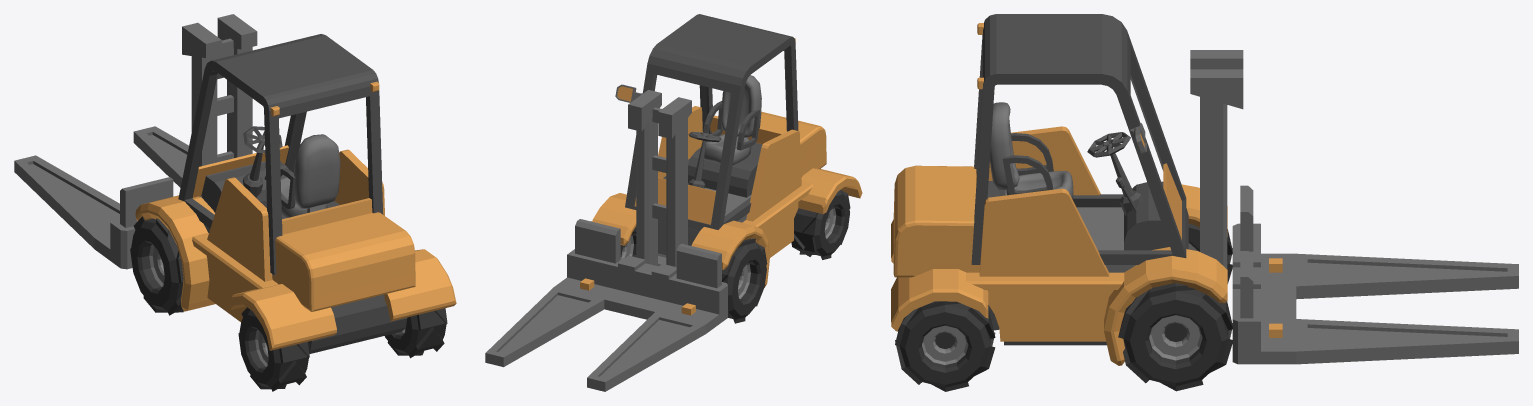
File: forklift_revised.fbx
The picture shows the model from 3 angles, left to right: view 1: azimuth 30°, elevation 25°; view 2: azimuth 150°, elevation 25°; view 3: azimuth 270°, elevation 25°; orthographic projection. The views are drawn at different scales.
Visible parts, largest first — view 1: Plane.161, Cube.104, Cube.102, Plane.166, Plane.163, Cube.103; view 2: Plane.161, Cube.104, Cube.102, Plane.163, Plane.166, Cube.103; view 3: Plane.161, Cube.104, Plane.163, Cube.102, Plane.166.
Boxes of the visible parts, x1,y1,x2,y2 form: Plane.161: (135,34,456,353); Cube.104: (14,126,188,269); Cube.102: (182,14,257,166); Plane.166: (238,307,447,391); Plane.163: (130,216,183,315); Cube.103: (217,38,233,162); Plane.161: (592,14,862,287); Cube.104: (485,219,727,391); Cube.102: (628,90,691,266); Plane.163: (591,221,767,323); Plane.166: (791,189,850,259); Cube.103: (652,107,666,220); Plane.161: (891,14,1227,365); Cube.104: (1232,185,1518,364); Plane.163: (1118,223,1233,391); Cube.102: (1190,50,1243,269); Plane.166: (895,301,995,391).
Size of the model in its own units: 210 by 294 by 554.
